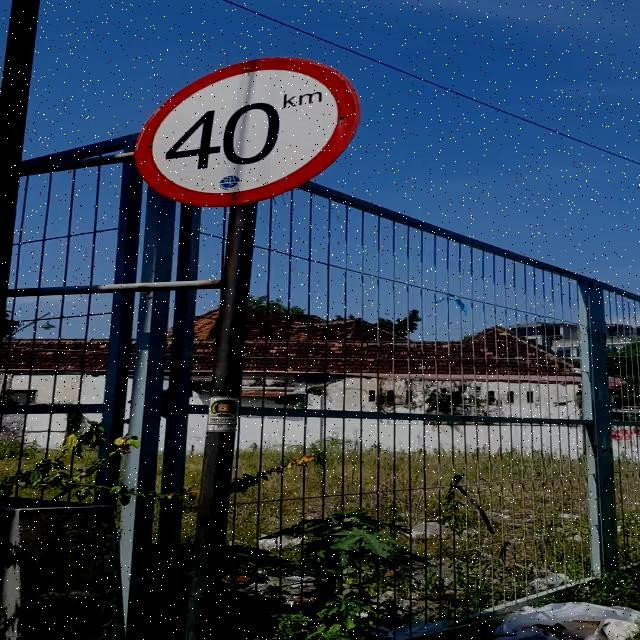Kecepatan Maks. 40 km: (134, 56, 360, 206)
